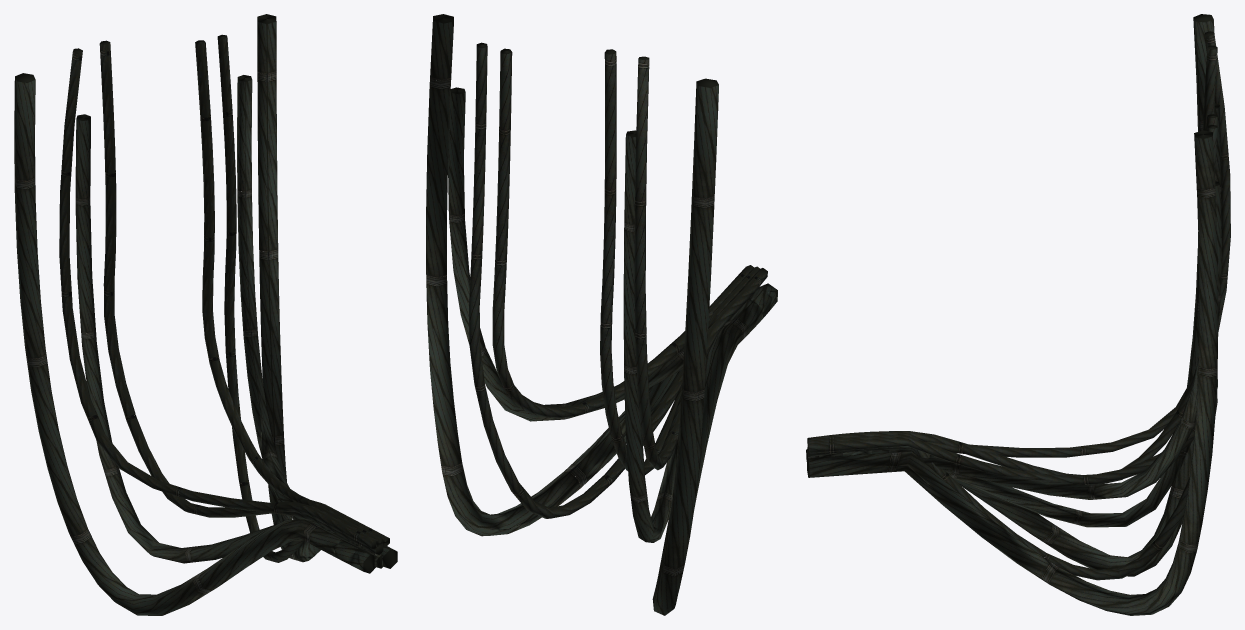
Rendered from tesla_dressing_wires_02.dae.
The picture shows the model from 3 angles, left to right: view 1: azimuth 30°, elevation 25°; view 2: azimuth 150°, elevation 25°; view 3: azimuth 270°, elevation 25°; orthographic projection. The views are drawn at different scales.
Visible parts, largest first — view 1: polySurface2; view 2: polySurface2; view 3: polySurface2.
Boxes of the visible parts, x1,y1,x2,y2 form: polySurface2: (14, 14, 397, 615); polySurface2: (426, 14, 777, 615); polySurface2: (806, 14, 1230, 615).
Size of the model in its own units: 3.05 by 5.97 by 4.3.
